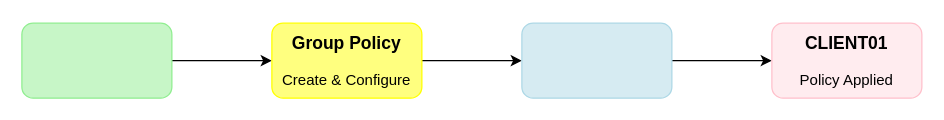
This 944x120 diagram has some shape labels left out. The centre of each missing label's shape, as x and y in pixels:
"DC01 Domain Controller" belongs at pixel 96 60.
"Organizational Unit Link GPO" belongs at pixel 596 60.
